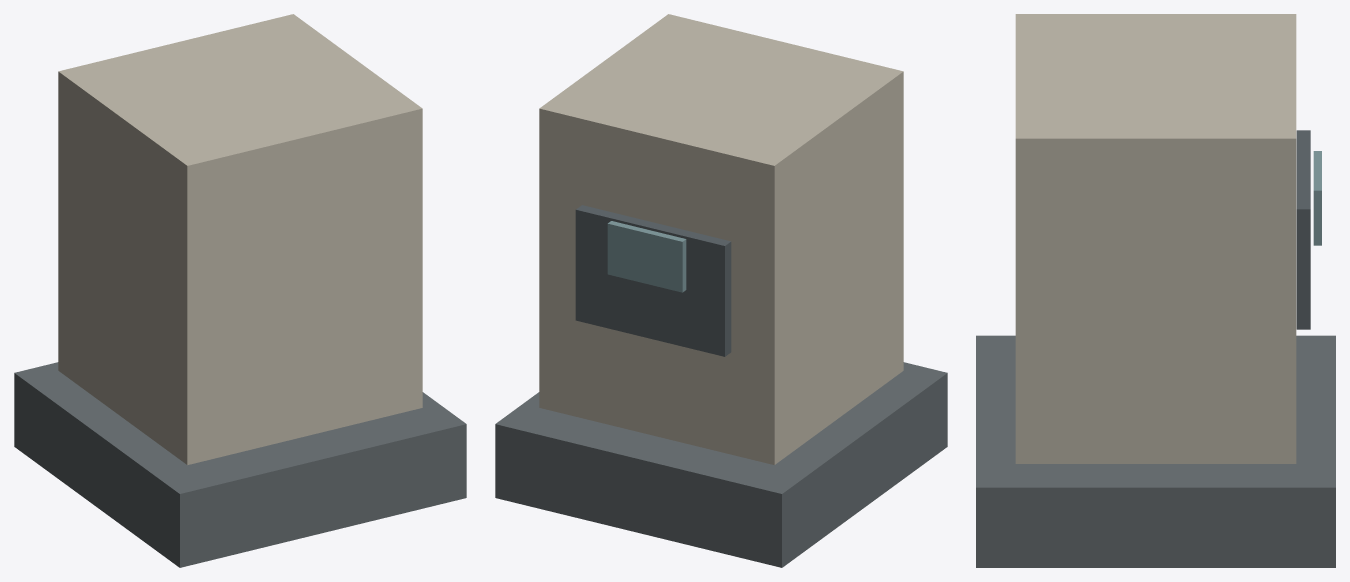
The model's file is iz3_production_collector_01.glb.
The picture shows the model from 3 angles, left to right: view 1: azimuth 30°, elevation 25°; view 2: azimuth 150°, elevation 25°; view 3: azimuth 270°, elevation 25°; orthographic projection. The views are drawn at different scales.
Parts seen in each view (by area): view 1: cabinet, base; view 2: cabinet, base, panel, display; view 3: cabinet, base, panel, display.
Boxes of the visible parts, left/top/right/bottom form: cabinet: left=58, top=14, right=422, bottom=464; base: left=14, top=362, right=466, bottom=567; cabinet: left=539, top=14, right=903, bottom=464; base: left=495, top=362, right=947, bottom=567; panel: left=575, top=205, right=731, bottom=356; display: left=607, top=221, right=686, bottom=292; cabinet: left=1015, top=14, right=1296, bottom=463; base: left=976, top=335, right=1335, bottom=567; panel: left=1296, top=130, right=1310, bottom=329; display: left=1313, top=151, right=1321, bottom=245.
Size of the model in its own units: 1.3 by 1.66 by 1.3.
